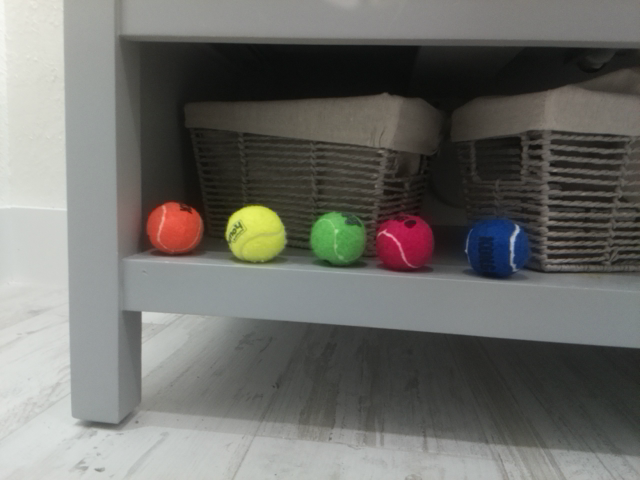blue-ball: (463, 216, 531, 280)
green-ball: (310, 210, 367, 268)
orange-ball: (144, 200, 205, 257)
red-ball: (373, 212, 435, 272)
yellow-ball: (224, 204, 288, 265)
